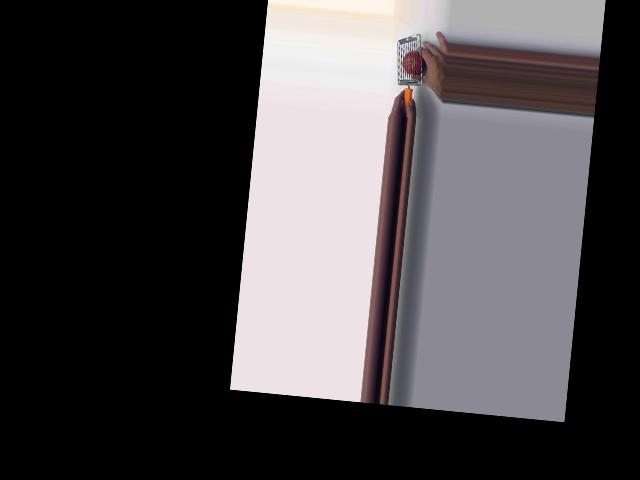tomato: (401, 50, 426, 76)
